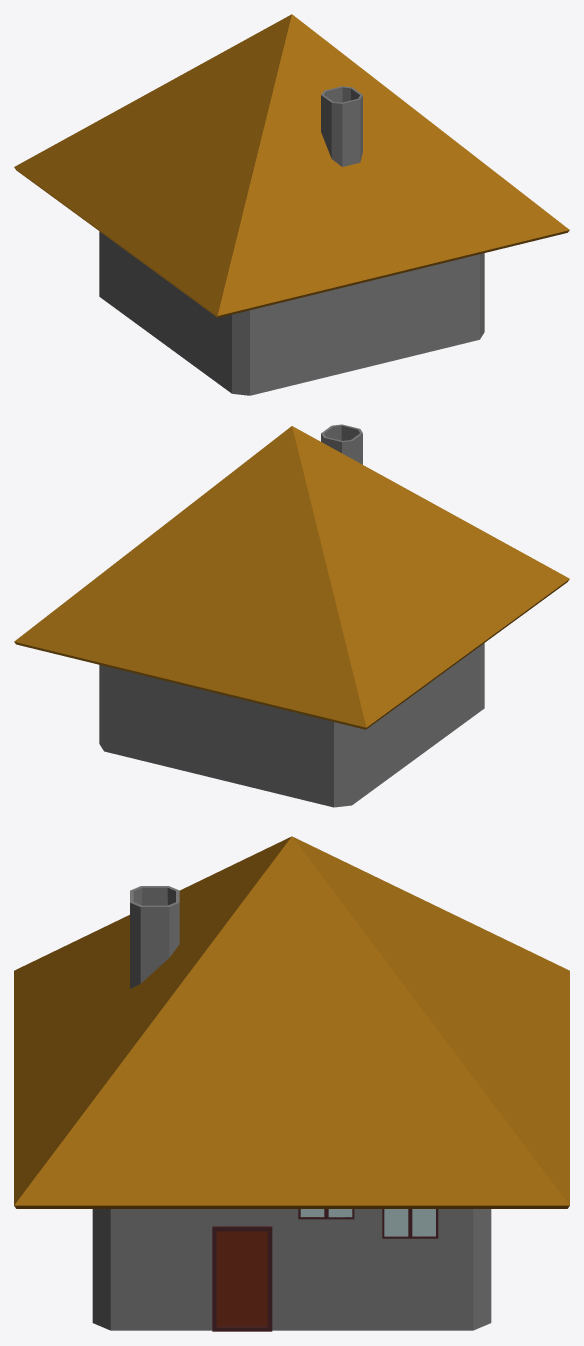
The picture shows the model from 3 angles, top to bottom: view 1: azimuth 30°, elevation 25°; view 2: azimuth 150°, elevation 25°; view 3: azimuth 270°, elevation 25°; orthographic projection. The views are drawn at different scales.
Visible parts, largest first — view 1: House2; view 2: House2; view 3: House2.
Part boxes in pixels (box(x1,y1,x2,y2)): House2: box(14, 14, 569, 395); House2: box(14, 424, 569, 807); House2: box(14, 836, 569, 1331).
Bounding box in the file's own units: 559 × 455 × 559.
